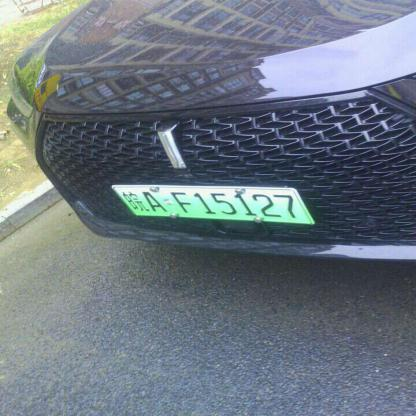lp: (112, 186, 314, 222)
